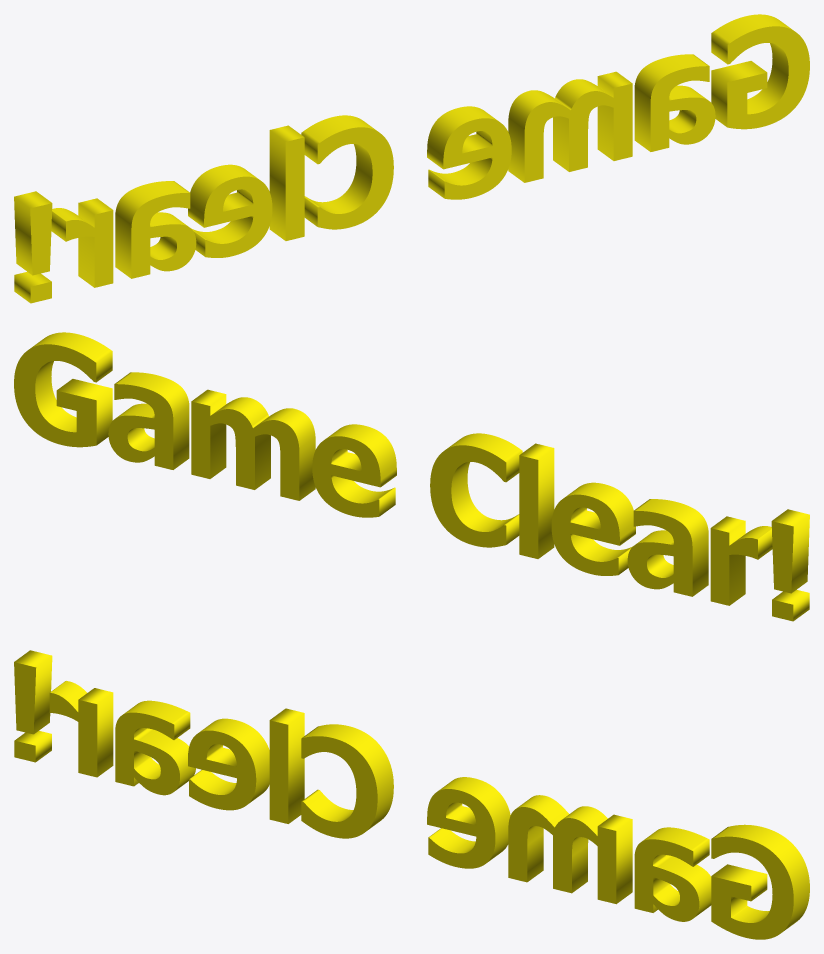
File: GameClearText.obj
3 views of the same model, one above another, from view 1: azimuth 30°, elevation 25°; view 2: azimuth 150°, elevation 25°; view 3: azimuth 330°, elevation 25° (orthographic).
Visible parts, largest first — view 1: テキスト; view 2: テキスト; view 3: テキスト.
Boxes of the visible parts, <box> form: テキスト: <box>14,14,809,303</box>; テキスト: <box>14,332,809,621</box>; テキスト: <box>14,650,809,939</box>.
Bounding box in the file's own units: 24.99 × 3.1 × 0.9.
Materials: 1 (1 with a texture image).
